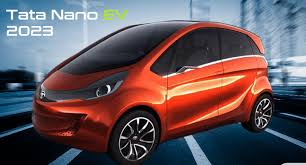Nano: (30, 19, 276, 165)
